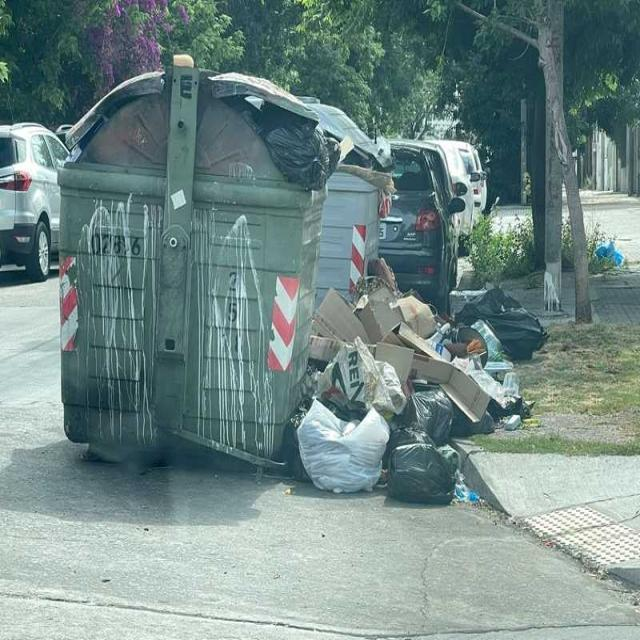high trash: (282, 285, 545, 504)
